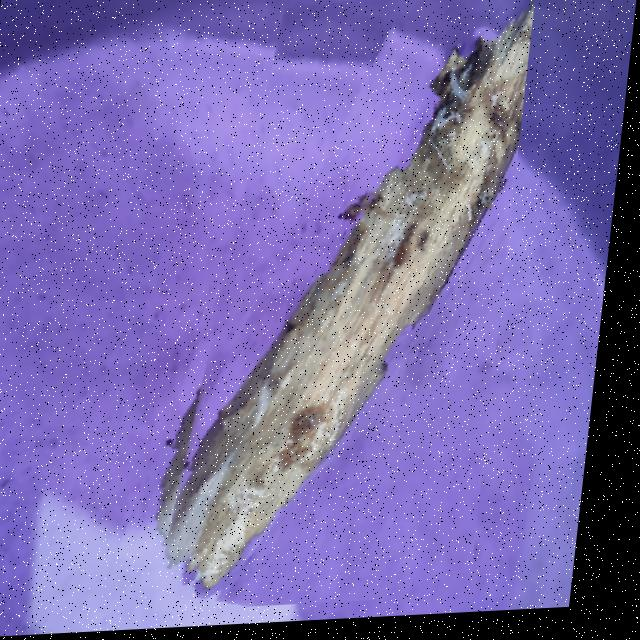wood: (162, 0, 537, 614)
